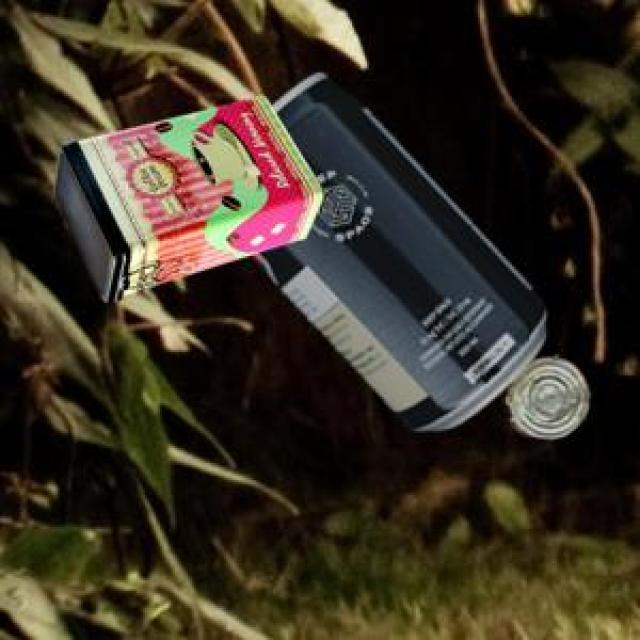Can: (249, 69, 543, 428), (50, 93, 319, 298), (502, 353, 586, 436)
